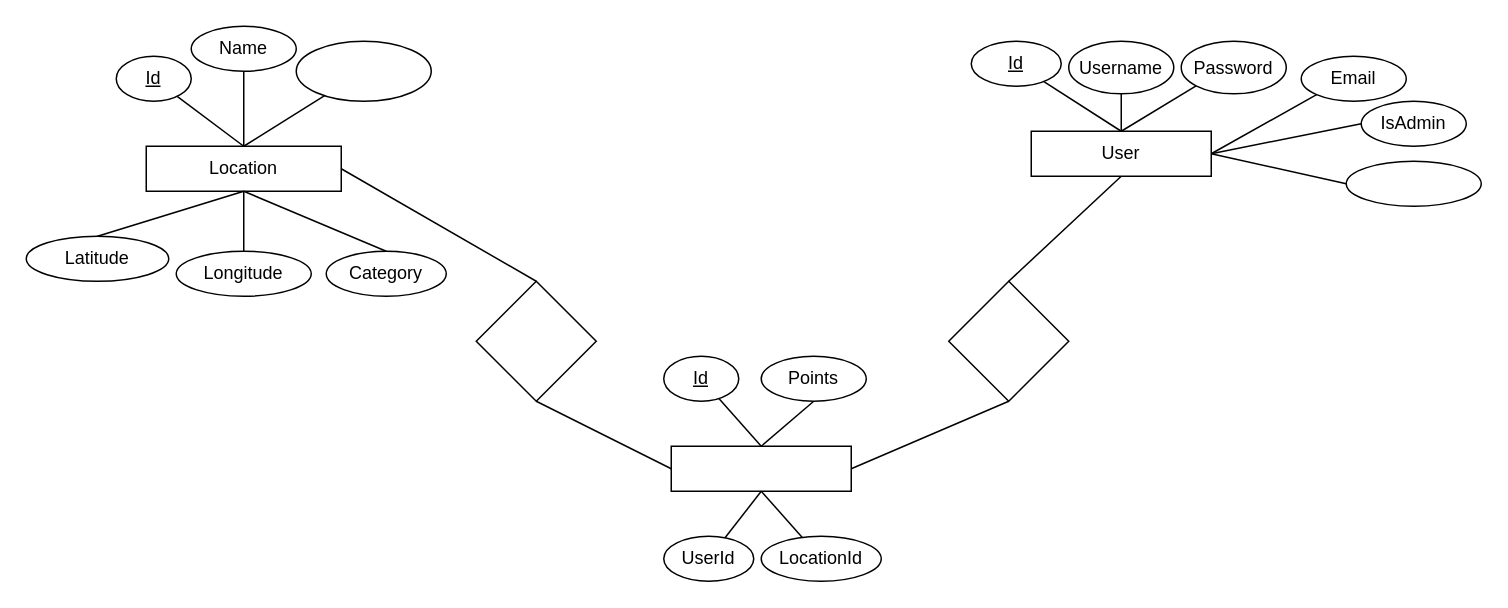
Image size: 1508x608. Some labels were removed from this diagram. Each missing label, with the centre of its shape:
"Description" goes at (x=363, y=70).
"Owns" goes at (x=1008, y=340).
"Picture" goes at (x=1413, y=183).
"Visited" goes at (x=535, y=340).
"Visited locations" goes at (x=760, y=468).
